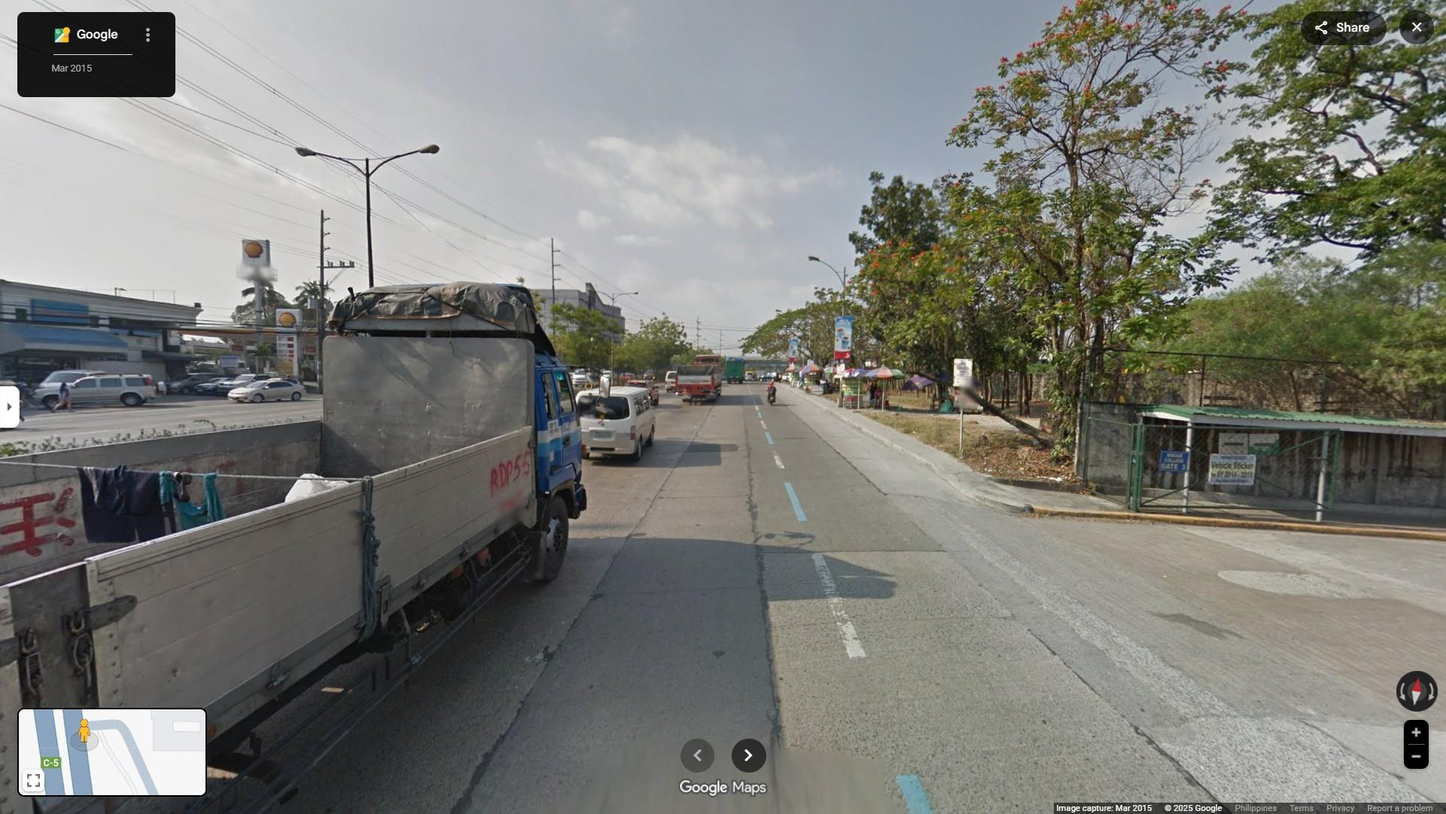pedestrian: (51, 381, 75, 413), (861, 378, 879, 411), (873, 386, 882, 409), (822, 379, 831, 395), (778, 372, 783, 383)
